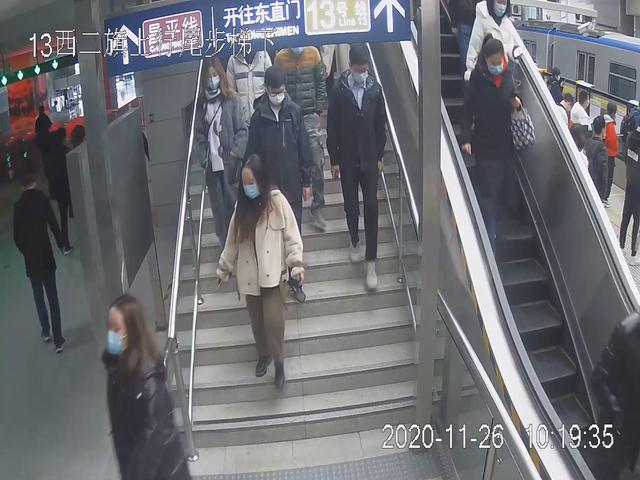person: (211, 148, 308, 388), (458, 22, 536, 274), (99, 291, 189, 480), (328, 35, 390, 297), (9, 157, 77, 364), (240, 64, 313, 253), (192, 57, 250, 263)
